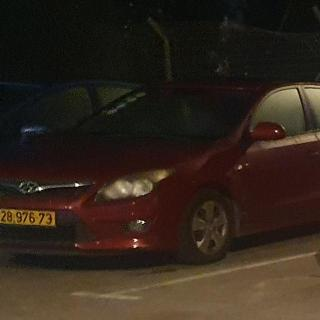LicensePlate: (0, 209, 56, 227)
